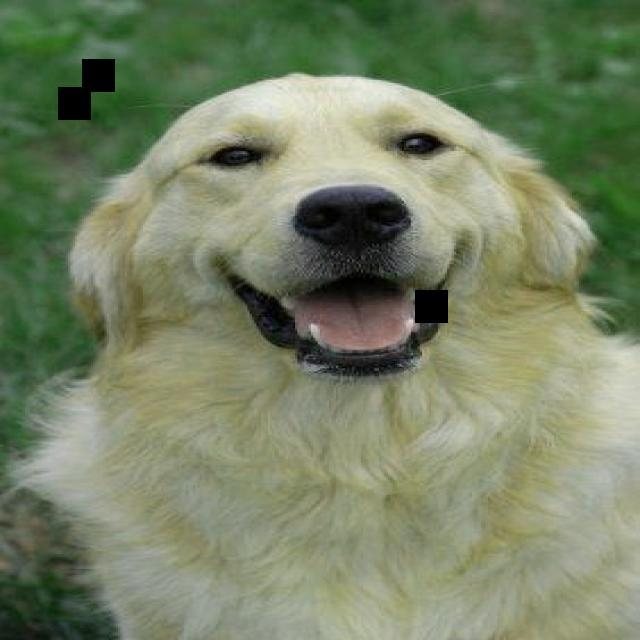adult_dog: (21, 73, 640, 640)
